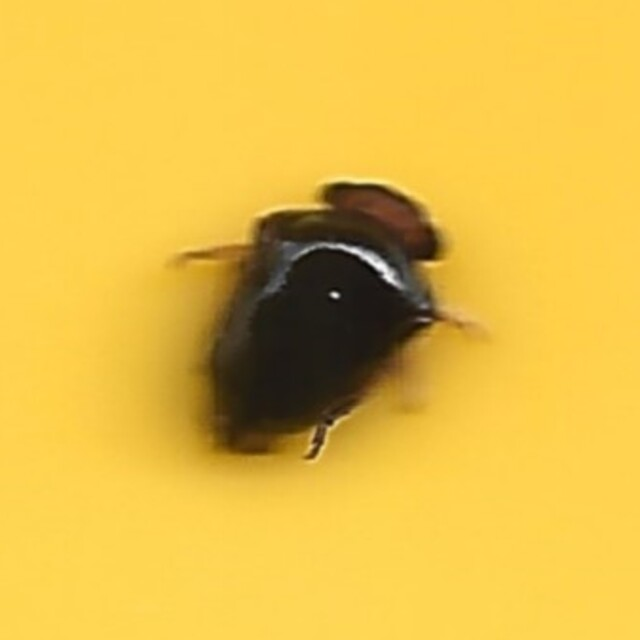Hemiptera: (190, 172, 450, 468)
